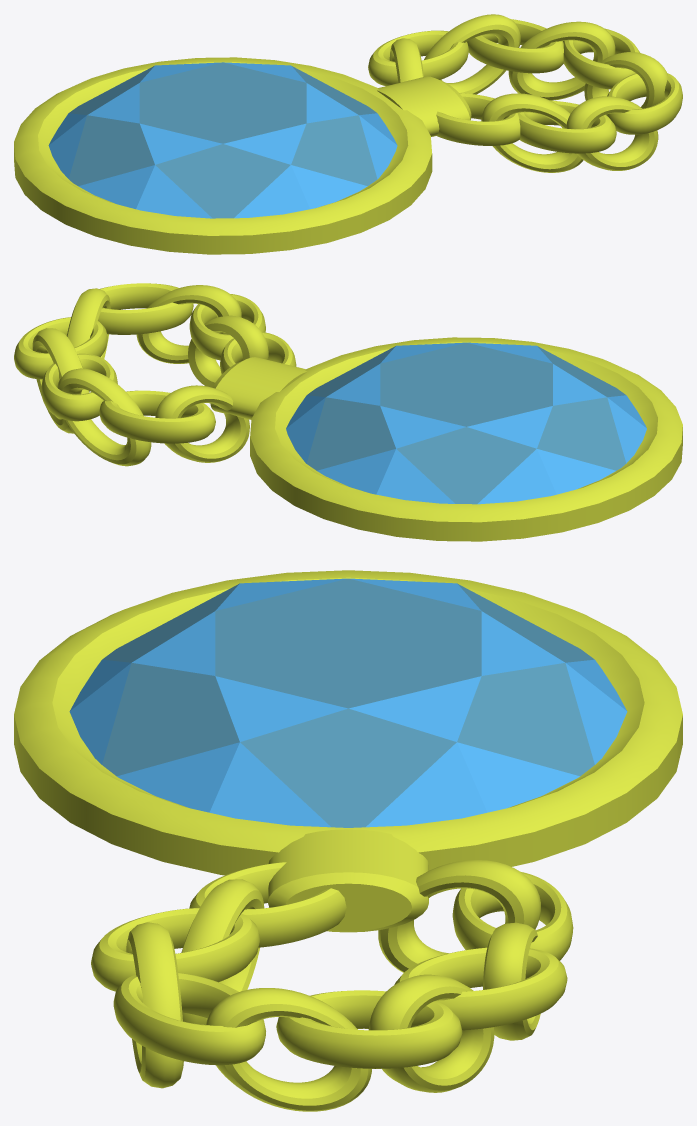
File: Necklace.fbx
3 renders of one model, top to bottom at view 1: azimuth 30°, elevation 25°; view 2: azimuth 150°, elevation 25°; view 3: azimuth 270°, elevation 25°, orthographic. The views are drawn at different scales.
Parts seen in each view (by area): view 1: Necklace; view 2: Necklace; view 3: Necklace.
Boxes of the visible parts, bbox=[...] form: Necklace: bbox=[14, 14, 682, 254]; Necklace: bbox=[14, 283, 682, 541]; Necklace: bbox=[14, 570, 682, 1111].
Size of the model in its own units: 1.27 by 0.2127 by 0.7668.
